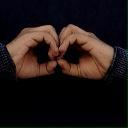hand: (56, 23, 114, 80), (5, 24, 59, 79)
